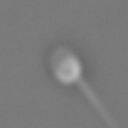normal: (75, 76, 114, 125)
